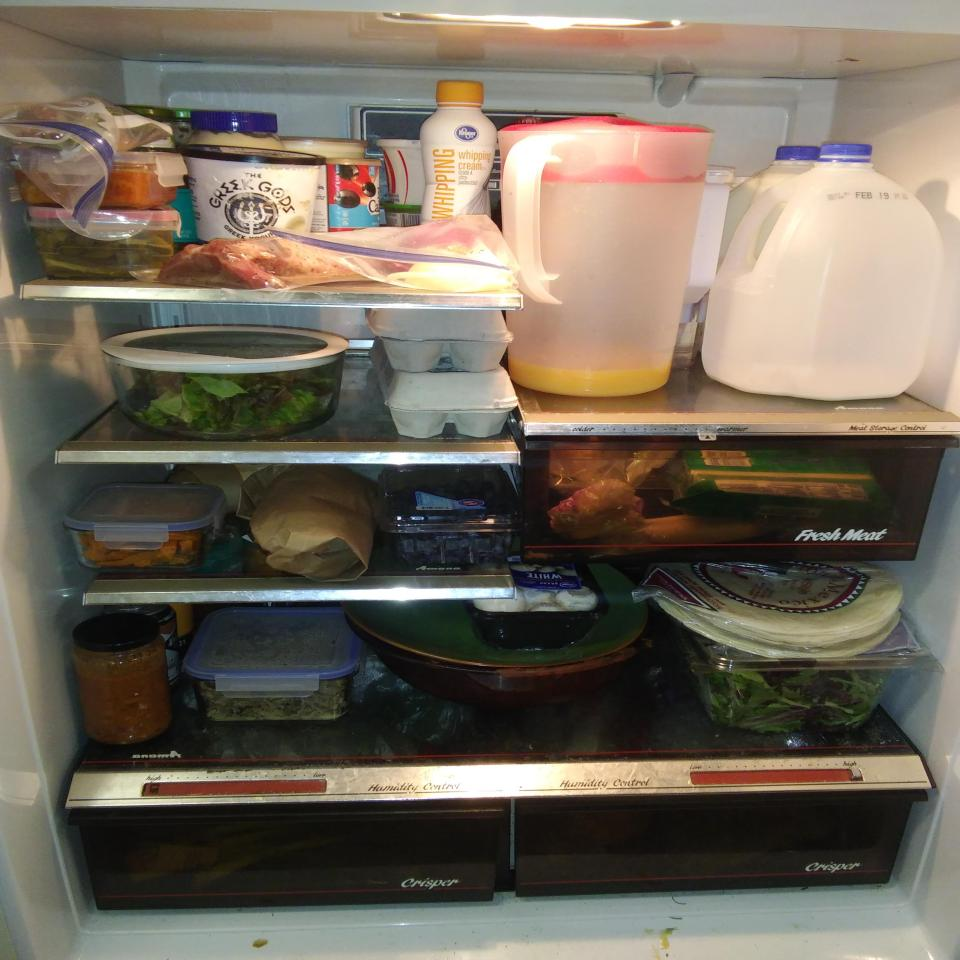Huevos: (368, 339, 519, 439), (366, 305, 513, 374)
Leche: (701, 143, 938, 401)
Yogur: (185, 145, 323, 245)
